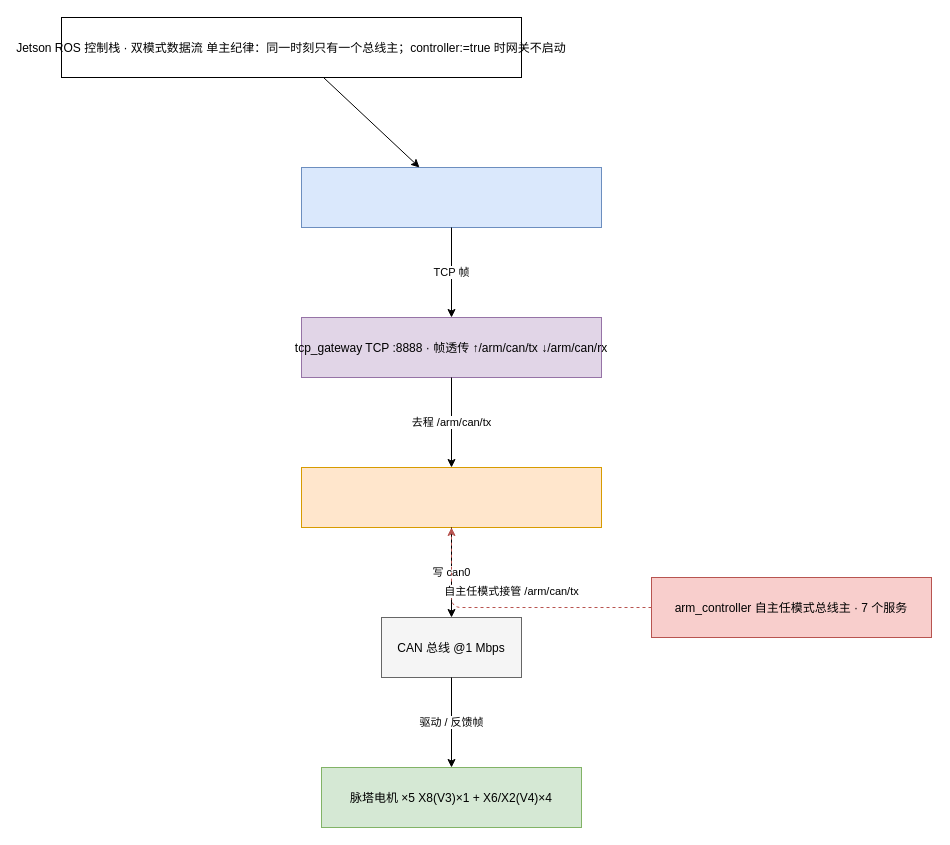
The diagram is 950 pixels wide and 845 high, and some of its shapes have lost their labels. Each missing label, with the centre of its shape:
can_bridge 唯一硬件入口 · SocketCAN 话题 ↔ can0 双向: (x=451, y=497)
Windows 操作界面（非 ROS 节点）: (x=451, y=197)
